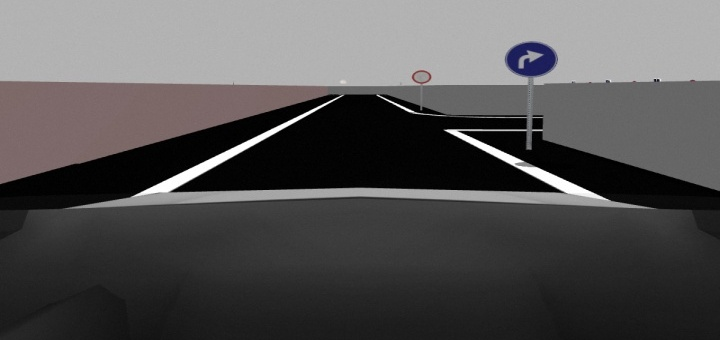girilmez: (411, 70, 429, 86)
saga_don: (505, 39, 558, 79)
